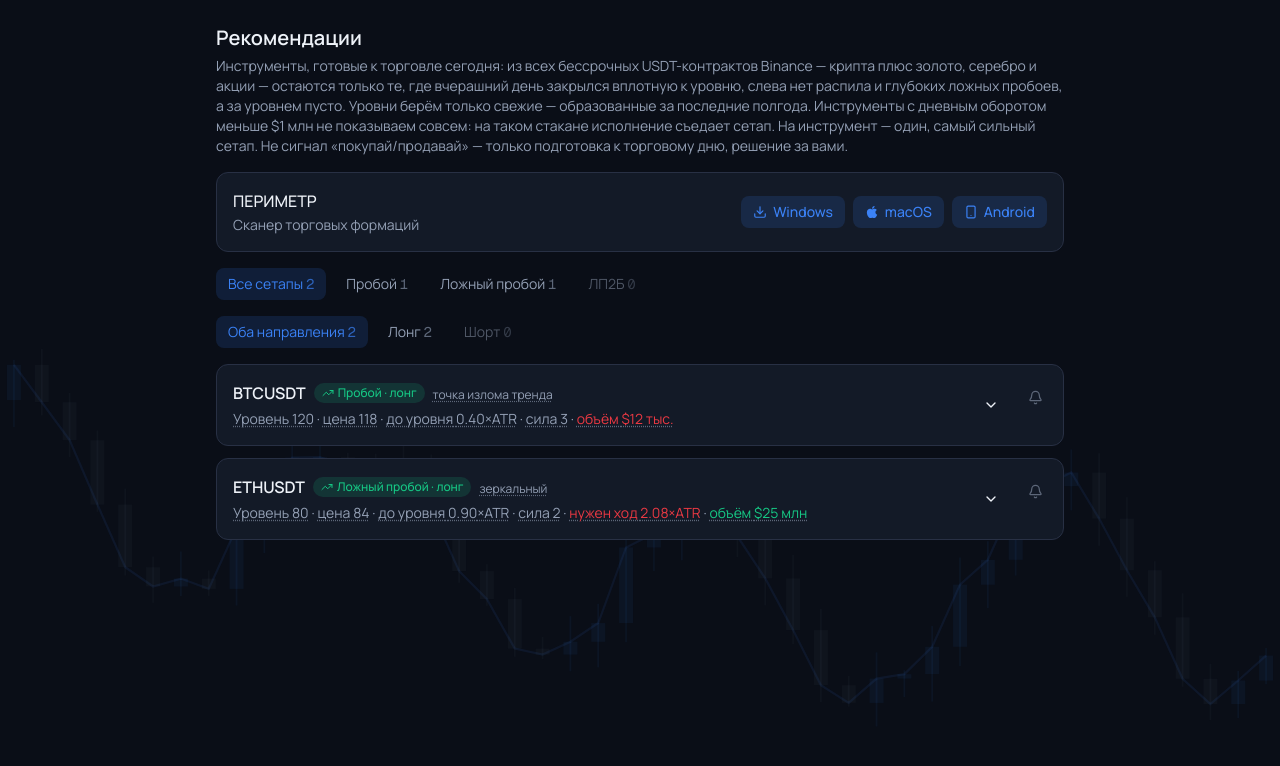
Test: expanded setup card › labels the bar that formed the level (БСУ) with its date
expect the text "Пробой · лонг" is shown: met, box [314,383,425,403]
Click the text "BTCUSDT": (269, 393) [233,381,306,405]
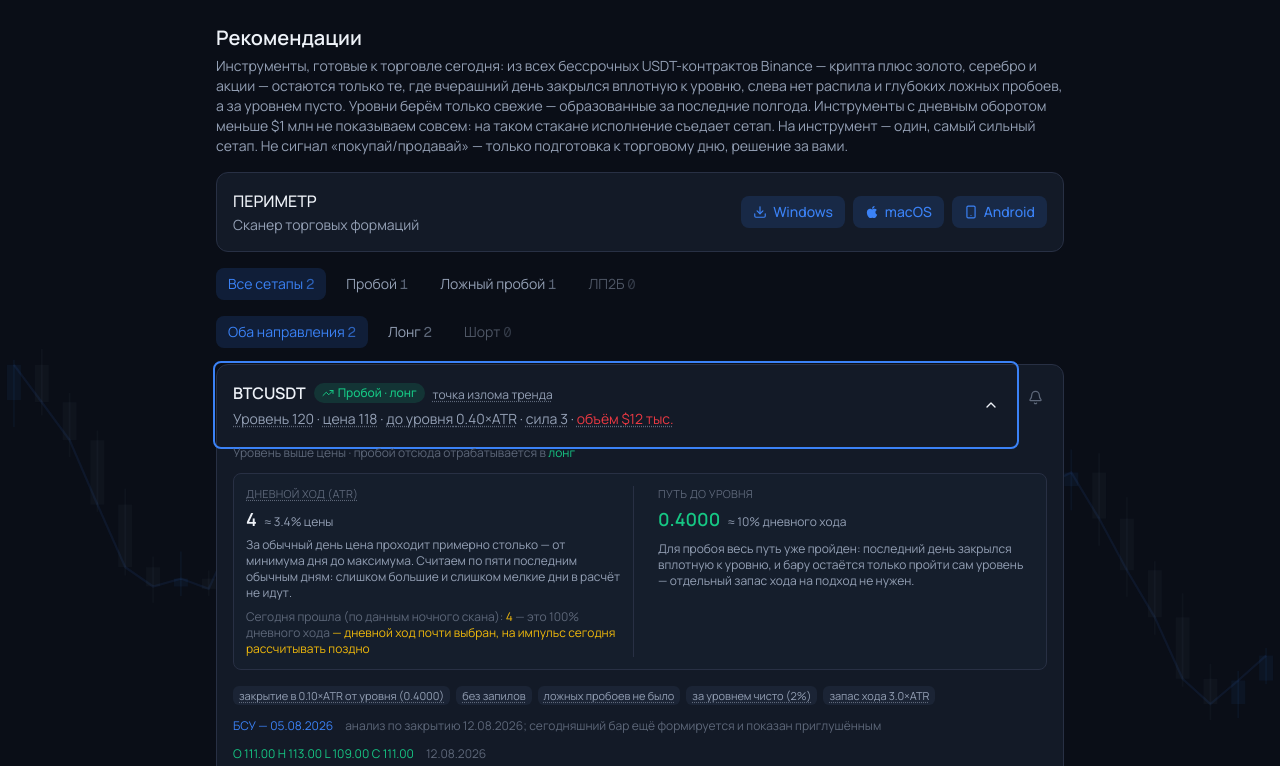
expect the text "БСУ — 05.08.2026" is shown: met, box [233,718,333,734]
